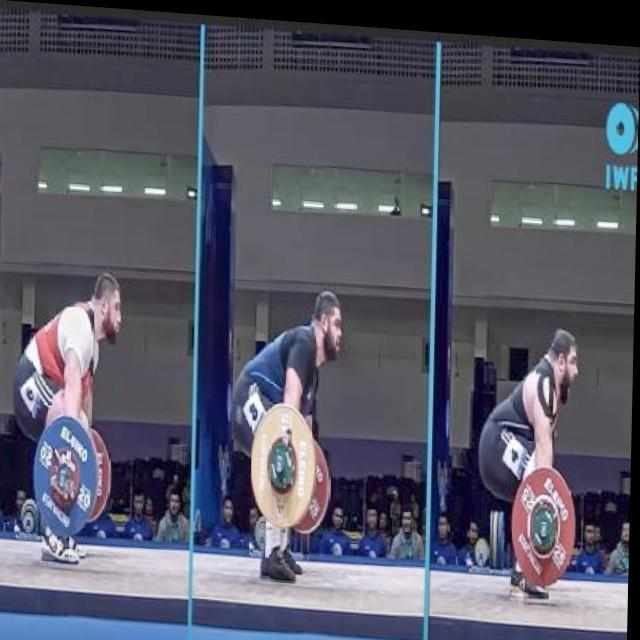barbell: (249, 396, 323, 530), (509, 453, 581, 585), (34, 410, 103, 539)
